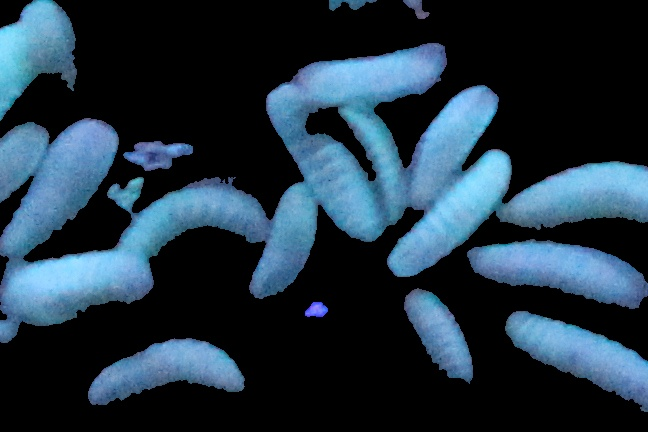larvae: (266, 85, 384, 241), (386, 147, 512, 276), (1, 118, 118, 255), (503, 308, 648, 417), (85, 334, 245, 413), (466, 241, 648, 309), (115, 181, 268, 259), (1, 253, 156, 326), (408, 85, 497, 208), (497, 159, 648, 230), (246, 173, 323, 299), (296, 38, 448, 97), (337, 103, 409, 218), (15, 1, 81, 112), (405, 287, 475, 384), (1, 122, 49, 203)
